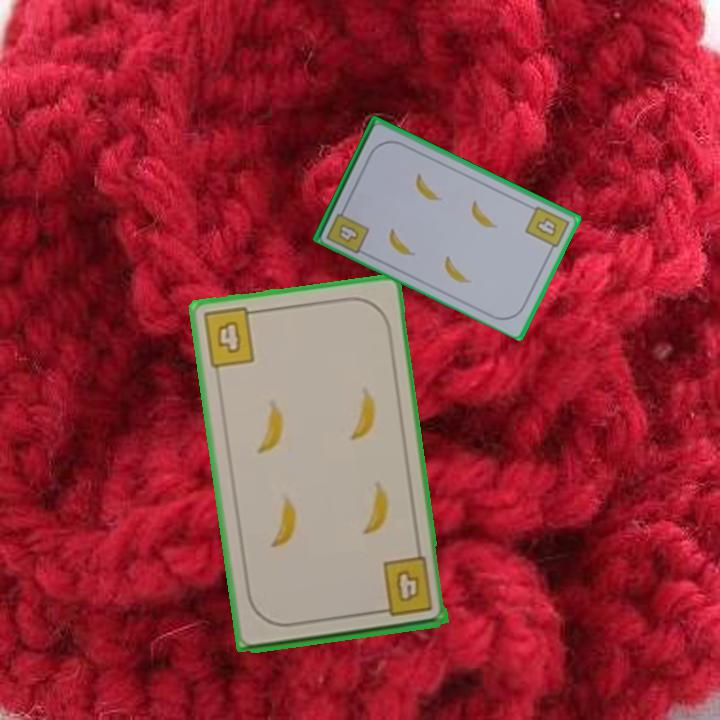4b: (198, 304, 263, 371), (372, 554, 436, 620), (521, 202, 572, 255), (323, 202, 372, 256)
